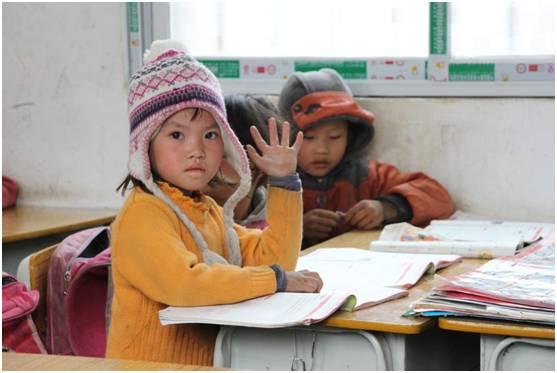handsup: (106, 43, 325, 362)
